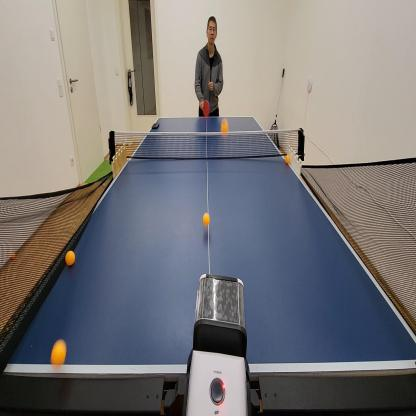Ball: (49, 336, 69, 368), (64, 248, 76, 268), (220, 117, 230, 140), (202, 209, 210, 228), (284, 153, 292, 165), (10, 250, 17, 262), (102, 182, 106, 190)
